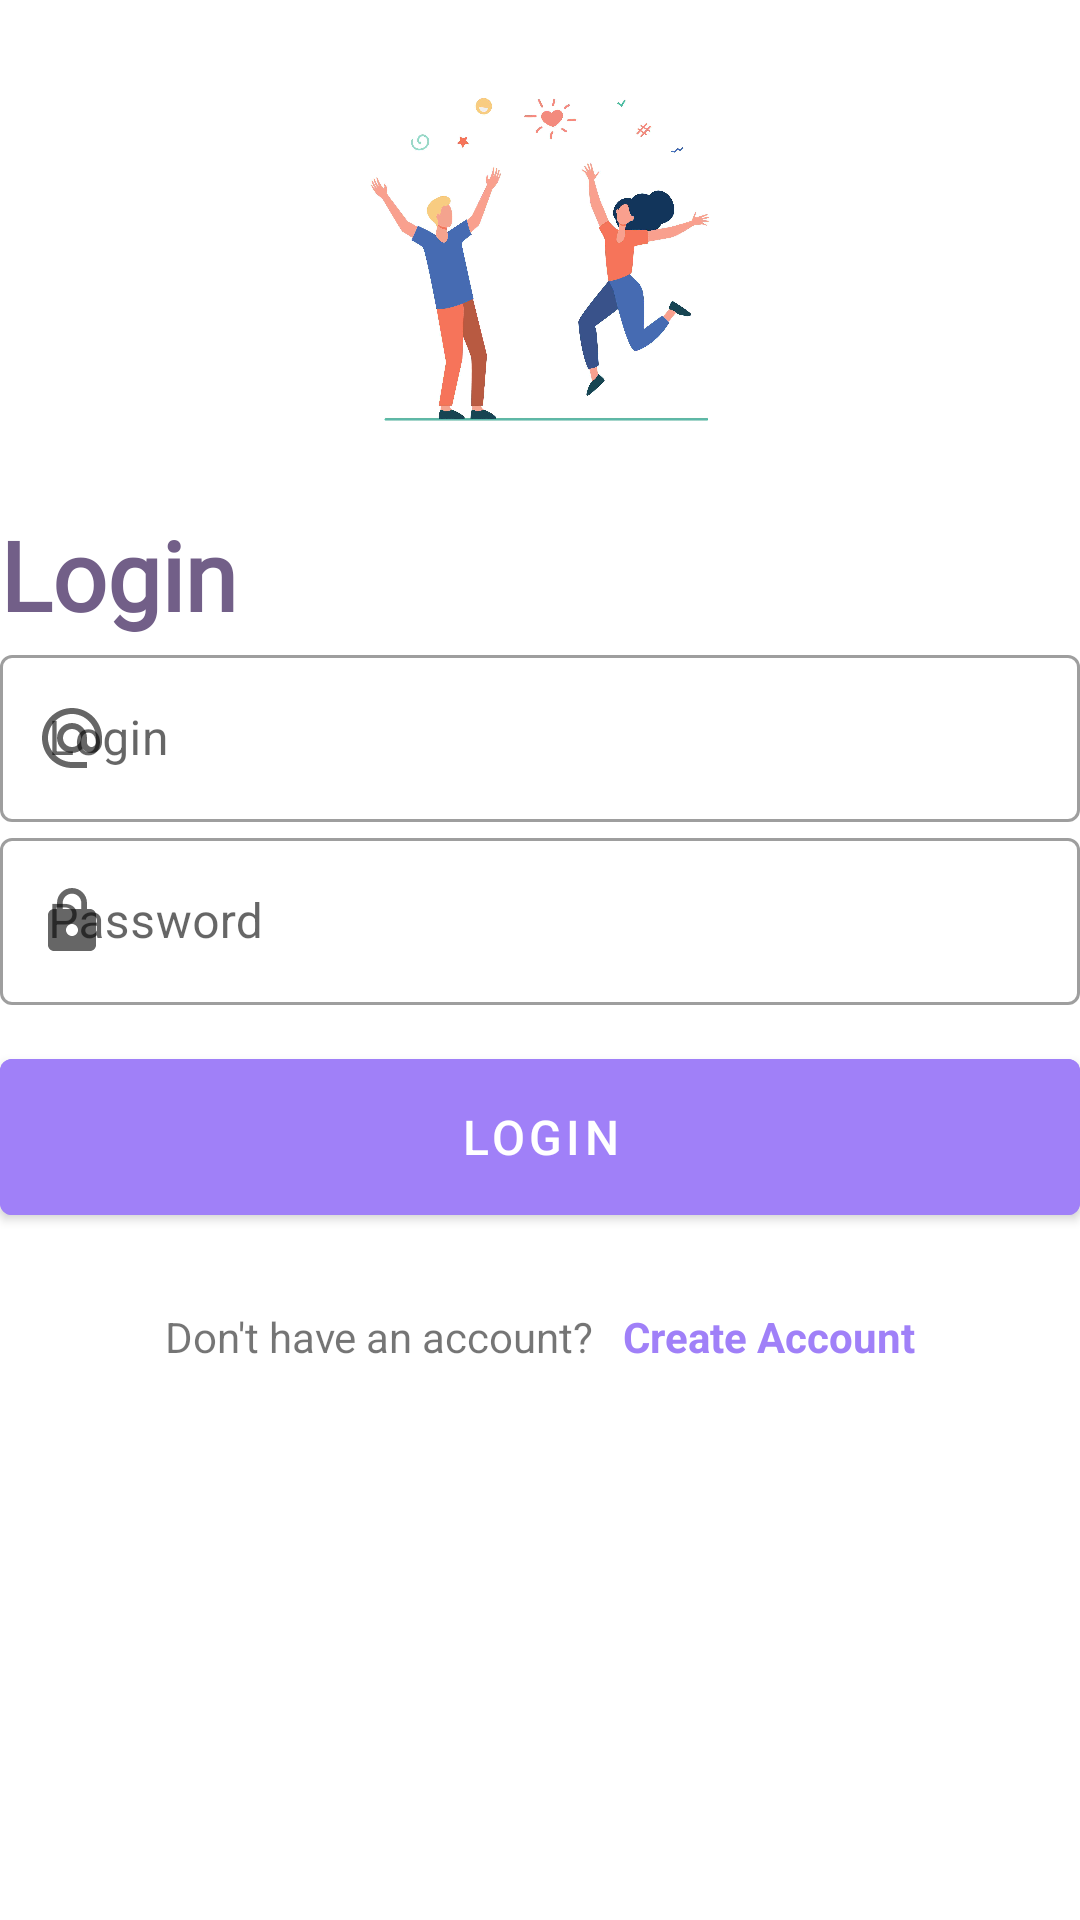

Icon bounding boxes for this 1080*1920 phone screenshot, format (x1, y1, x2, y2):
jumping reduced: (371, 98, 709, 421)
